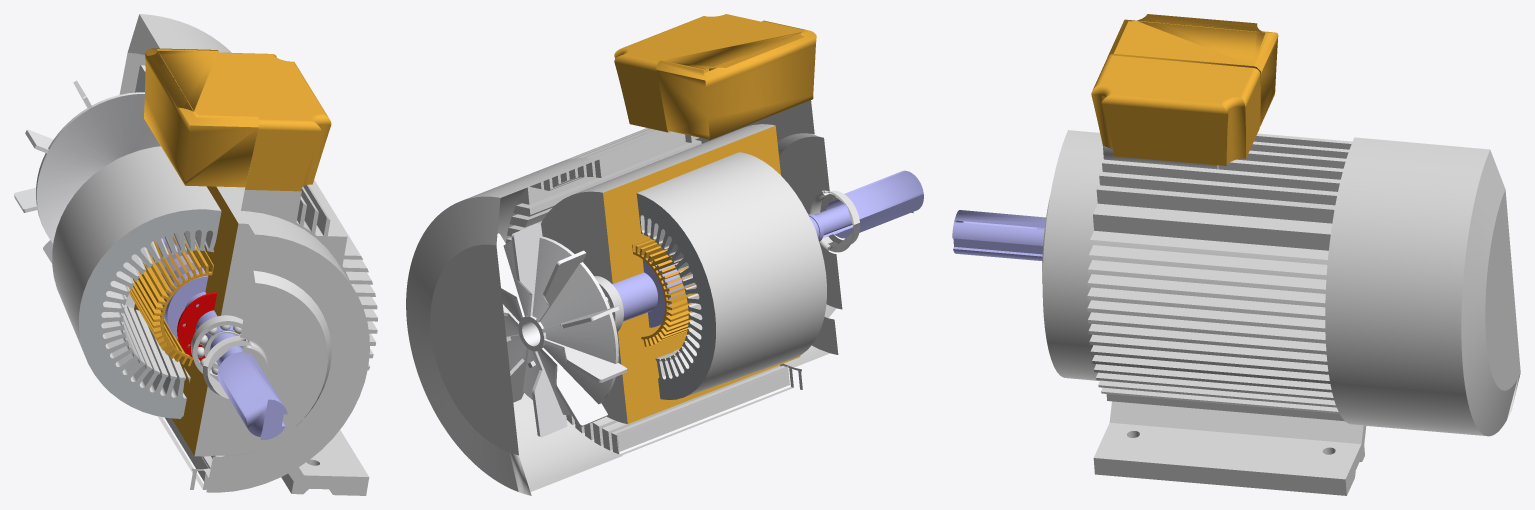
Rendered from squirrelcage1.glb.
3 renders of one model, left to right at view 1: azimuth 30°, elevation 25°; view 2: azimuth 150°, elevation 25°; view 3: azimuth 270°, elevation 25°, orthographic. The views are drawn at different scales.
Parts seen in each view (by area): view 1: Bry_a2; view 2: Bry_a2; view 3: Bry_a2.
Part boxes in pixels (left/top/right/bottom): Bry_a2: left=14, top=14, right=377, bottom=495; Bry_a2: left=406, top=14, right=923, bottom=495; Bry_a2: left=952, top=14, right=1520, bottom=495.
Size of the model in its own units: 23.99 by 29.49 by 39.06.
